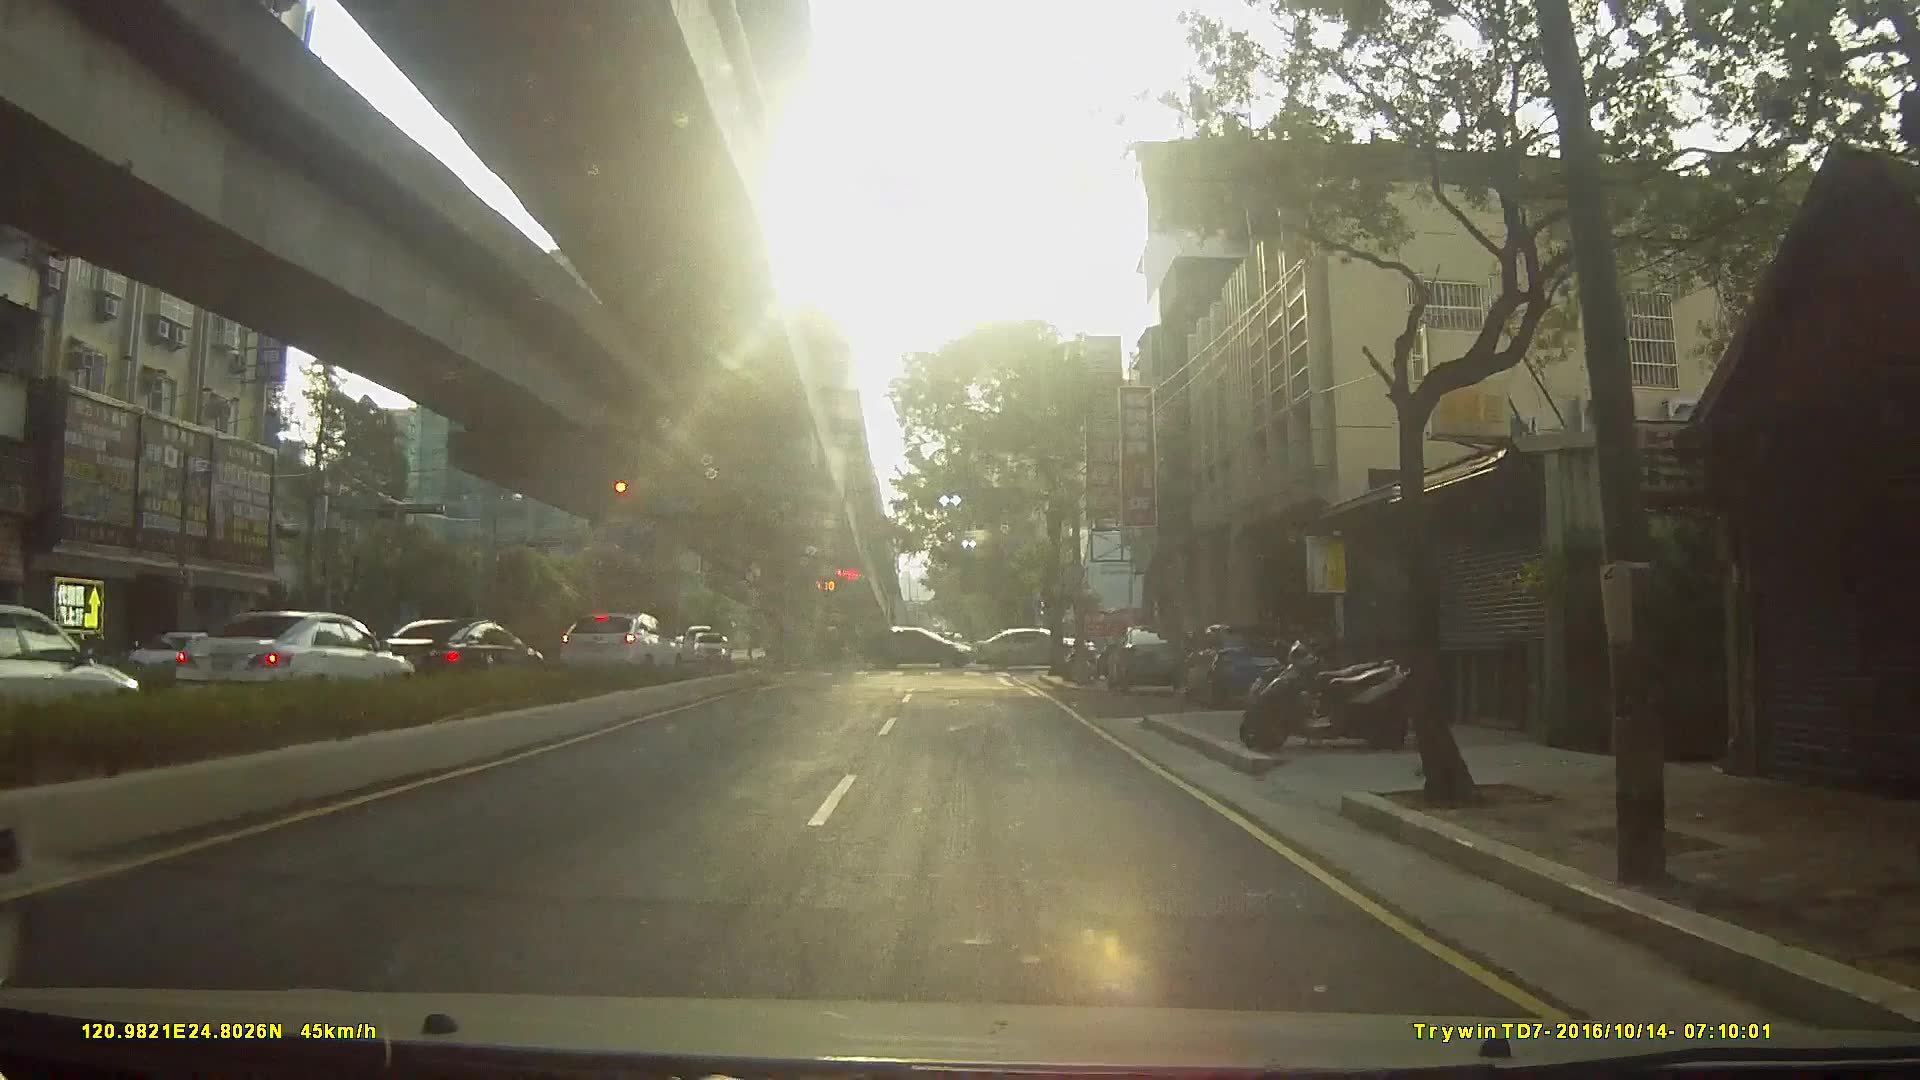vehicle: (154, 608, 407, 709), (1, 611, 144, 742), (368, 615, 541, 688), (1185, 620, 1298, 711), (553, 607, 680, 674), (1105, 620, 1199, 694), (980, 625, 1098, 670), (868, 624, 978, 670), (690, 629, 732, 666)
